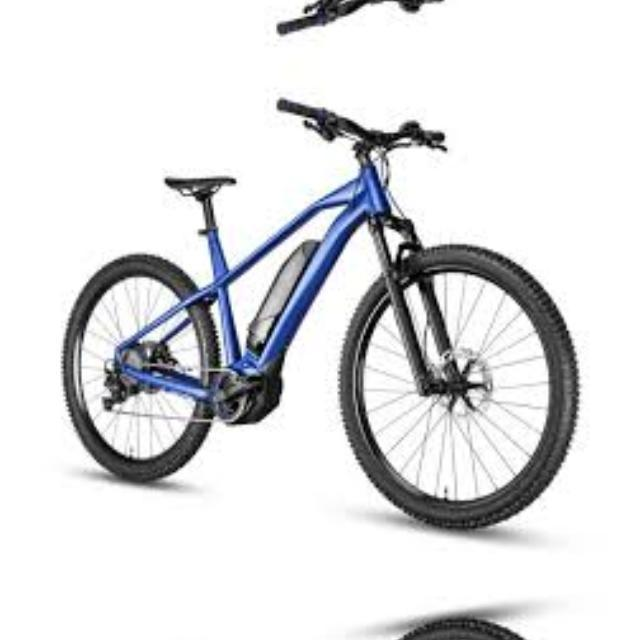obstacle: (42, 84, 624, 554), (42, 0, 623, 48), (42, 594, 623, 640)
